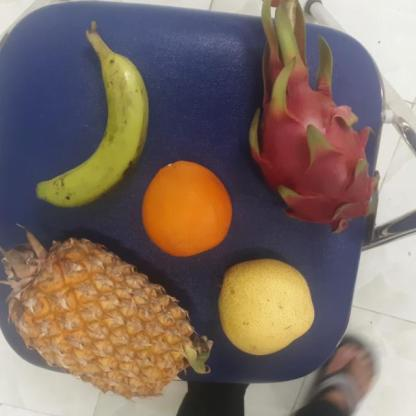banana: (33, 33, 148, 209)
orange: (137, 159, 234, 260)
pear: (214, 255, 320, 354)
pineapple: (0, 233, 202, 396)
pitaya: (242, 32, 382, 234)
